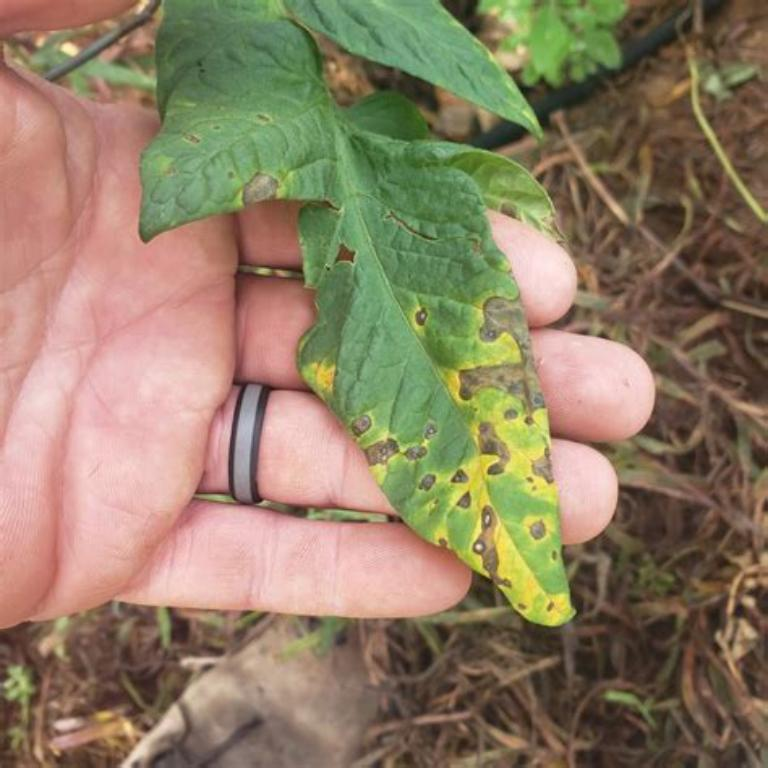blight: (418, 272, 568, 582)
